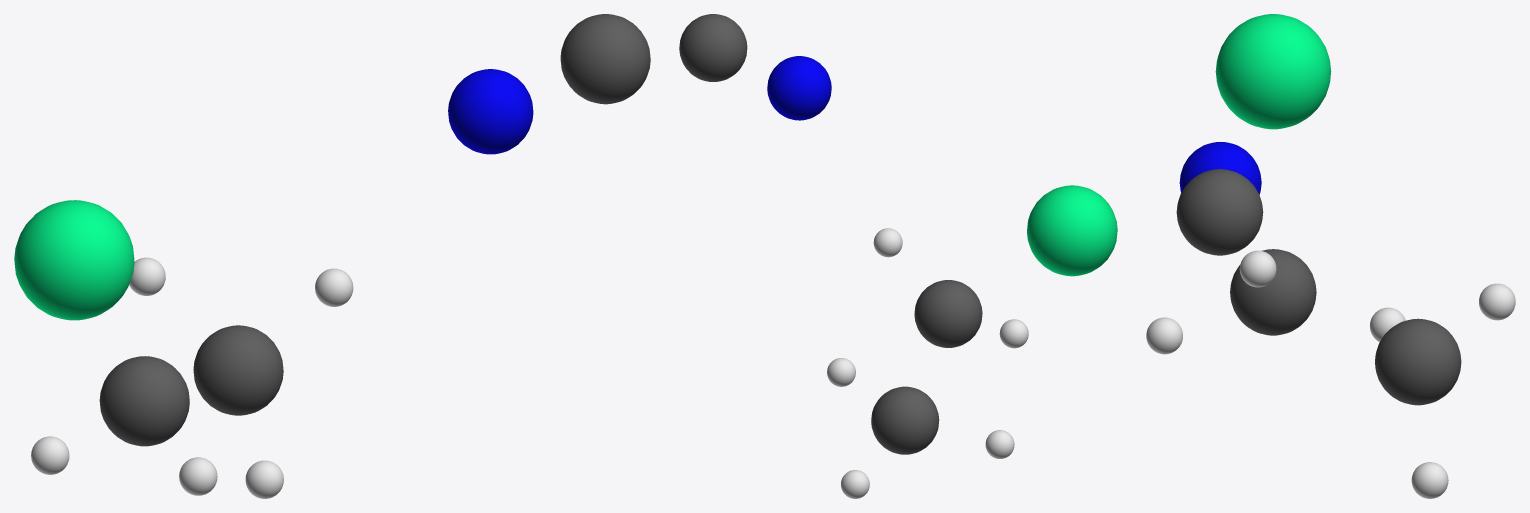
The model's file is SN2_Chloroethane_nonproductive.fbx.
The picture shows the model from 3 angles, left to right: view 1: azimuth 30°, elevation 25°; view 2: azimuth 150°, elevation 25°; view 3: azimuth 270°, elevation 25°; orthographic projection. The views are drawn at different scales.
Parts seen in each view (by area): view 1: Cl08, C01, C09, C05, N10, H03, H02, H07, H06, H04; view 2: Cl08, C01, C09, C05, N10, H02, H06, H07, H03, H04; view 3: Cl08, C01, C09, C05, N10, H06, H07, H04, H03, H02.
Boxes of the visible parts, bbox=[...] form: Cl08: bbox=[14, 200, 134, 320]; C01: bbox=[99, 356, 189, 446]; C09: bbox=[560, 14, 650, 104]; C05: bbox=[193, 325, 283, 415]; N10: bbox=[448, 69, 533, 154]; H03: bbox=[179, 457, 217, 495]; H02: bbox=[31, 436, 69, 474]; H07: bbox=[245, 460, 283, 498]; H06: bbox=[315, 268, 353, 306]; H04: bbox=[129, 257, 165, 295]; Cl08: bbox=[1027, 185, 1117, 276]; C01: bbox=[871, 386, 939, 454]; C09: bbox=[679, 14, 747, 81]; C05: bbox=[914, 280, 982, 347]; N10: bbox=[767, 56, 831, 120]; H02: bbox=[985, 430, 1014, 458]; H06: bbox=[873, 228, 902, 257]; H07: bbox=[999, 319, 1028, 348]; H03: bbox=[841, 470, 869, 498]; H04: bbox=[827, 358, 855, 386]; Cl08: bbox=[1215, 14, 1331, 129]; C01: bbox=[1375, 318, 1461, 405]; C09: bbox=[1176, 169, 1263, 255]; C05: bbox=[1230, 249, 1316, 335]; N10: bbox=[1179, 142, 1261, 194]; H06: bbox=[1239, 250, 1276, 287]; H07: bbox=[1146, 317, 1182, 354]; H04: bbox=[1479, 283, 1515, 320]; H03: bbox=[1411, 462, 1448, 498]; H02: bbox=[1370, 307, 1405, 342].
Size of the model in its own units: 570 by 443 by 320.
